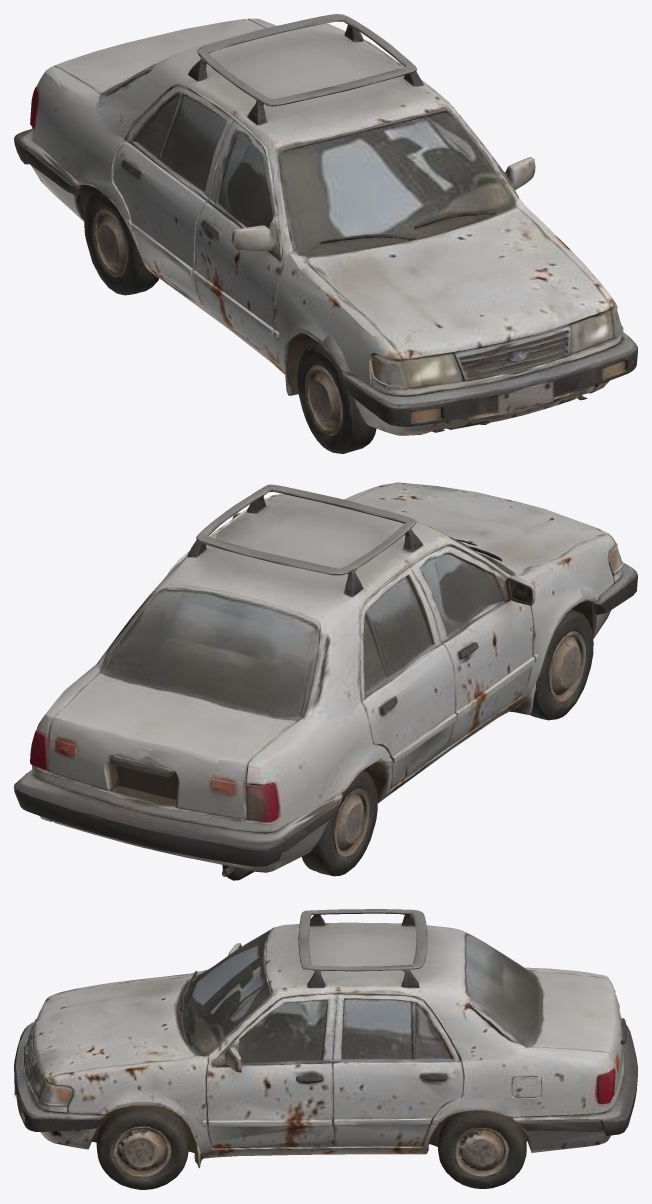
Rendered from civ_sedan.glb.
The picture shows the model from 3 angles, top to bottom: view 1: azimuth 30°, elevation 25°; view 2: azimuth 150°, elevation 25°; view 3: azimuth 270°, elevation 25°; orthographic projection. The views are drawn at different scales.
Parts seen in each view (by area): view 1: civ_sedan; view 2: civ_sedan; view 3: civ_sedan.
Part boxes in pixels (x1,y1,x2,y2): civ_sedan: (14, 14, 637, 453); civ_sedan: (14, 482, 637, 880); civ_sedan: (14, 909, 637, 1189).
Size of the model in its own units: 1.94 by 1.61 by 4.4.
Materials: 1 (1 with a texture image).
